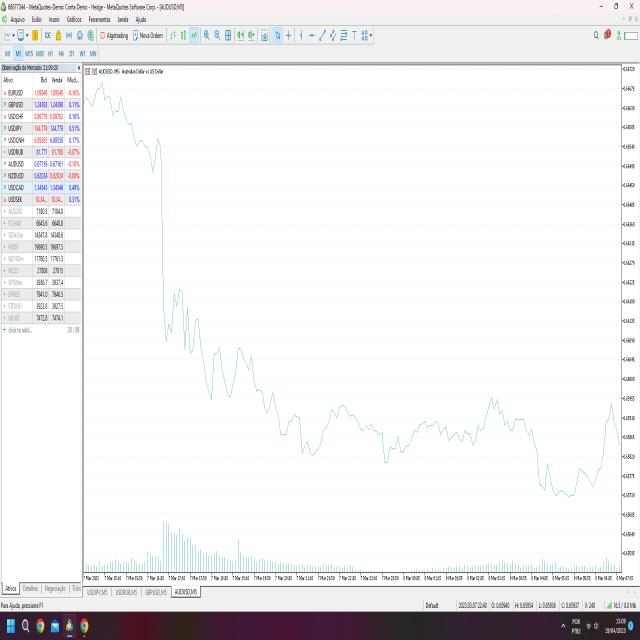bandeira_baixa: (156, 119, 202, 365)
